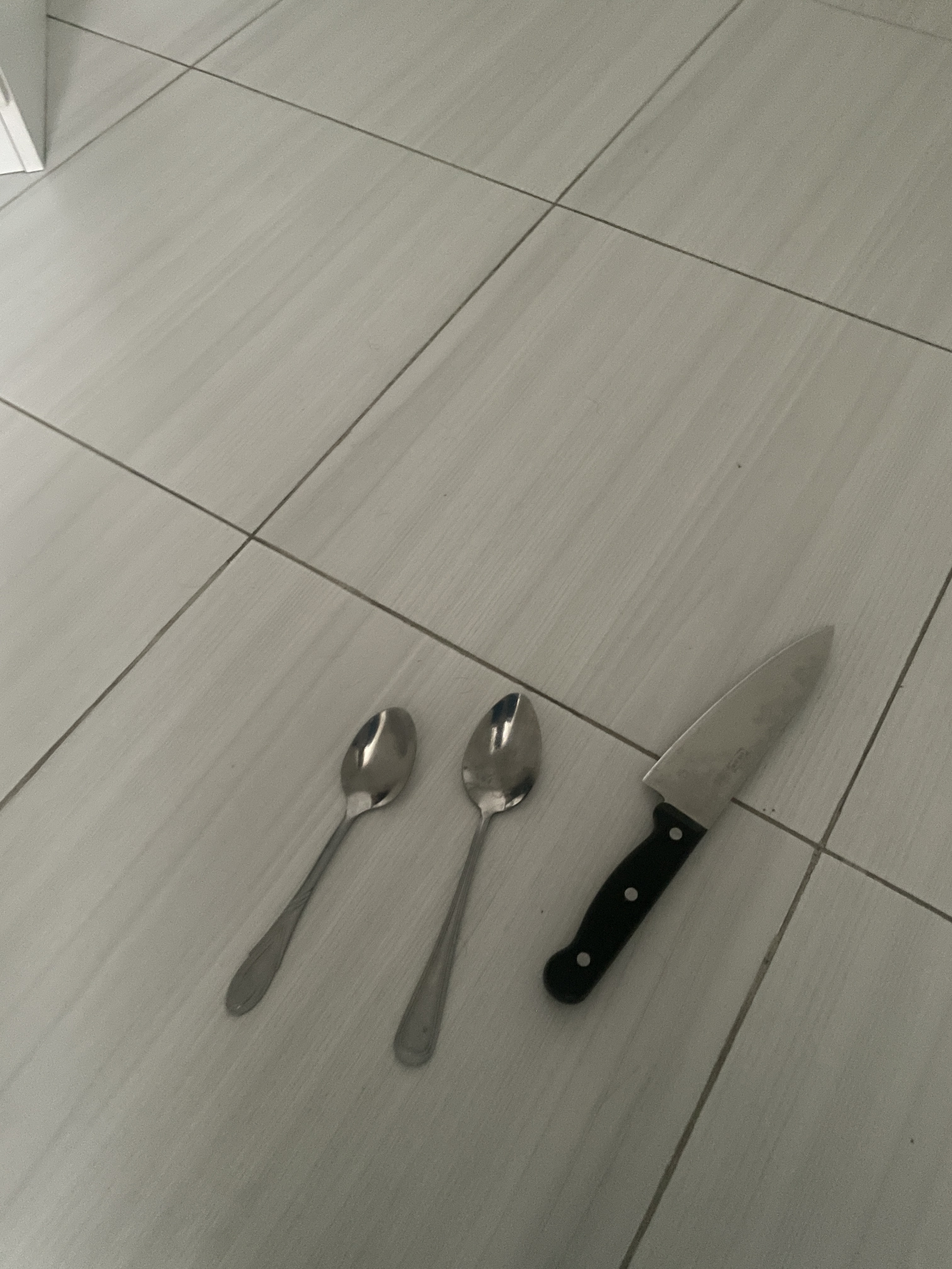knife: (543, 627, 834, 1003)
spoon: (226, 708, 416, 1015), (394, 693, 541, 1065)
